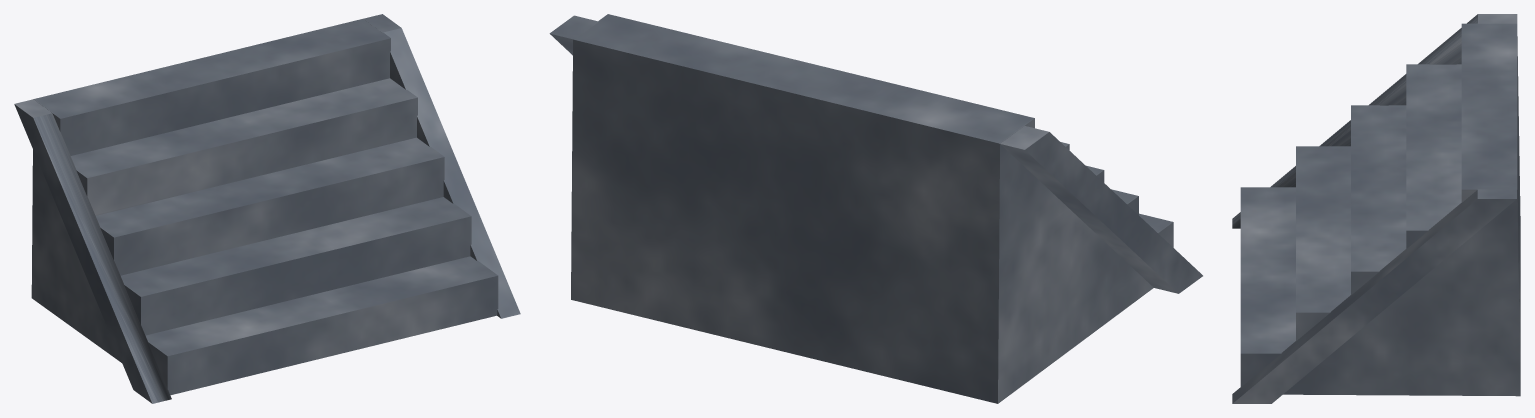
Rendered from stairs.fbx.
The picture shows the model from 3 angles, left to right: view 1: azimuth 30°, elevation 25°; view 2: azimuth 150°, elevation 25°; view 3: azimuth 270°, elevation 25°; orthographic projection. The views are drawn at different scales.
Parts seen in each view (by area): view 1: Stairs1; view 2: Stairs1; view 3: Stairs1.
Boxes of the visible parts, x1,y1,x2,y2 form: Stairs1: [14, 14, 520, 403]; Stairs1: [549, 14, 1202, 403]; Stairs1: [1232, 14, 1520, 403].
Bounding box in the file's own units: 400 × 208 × 264.
